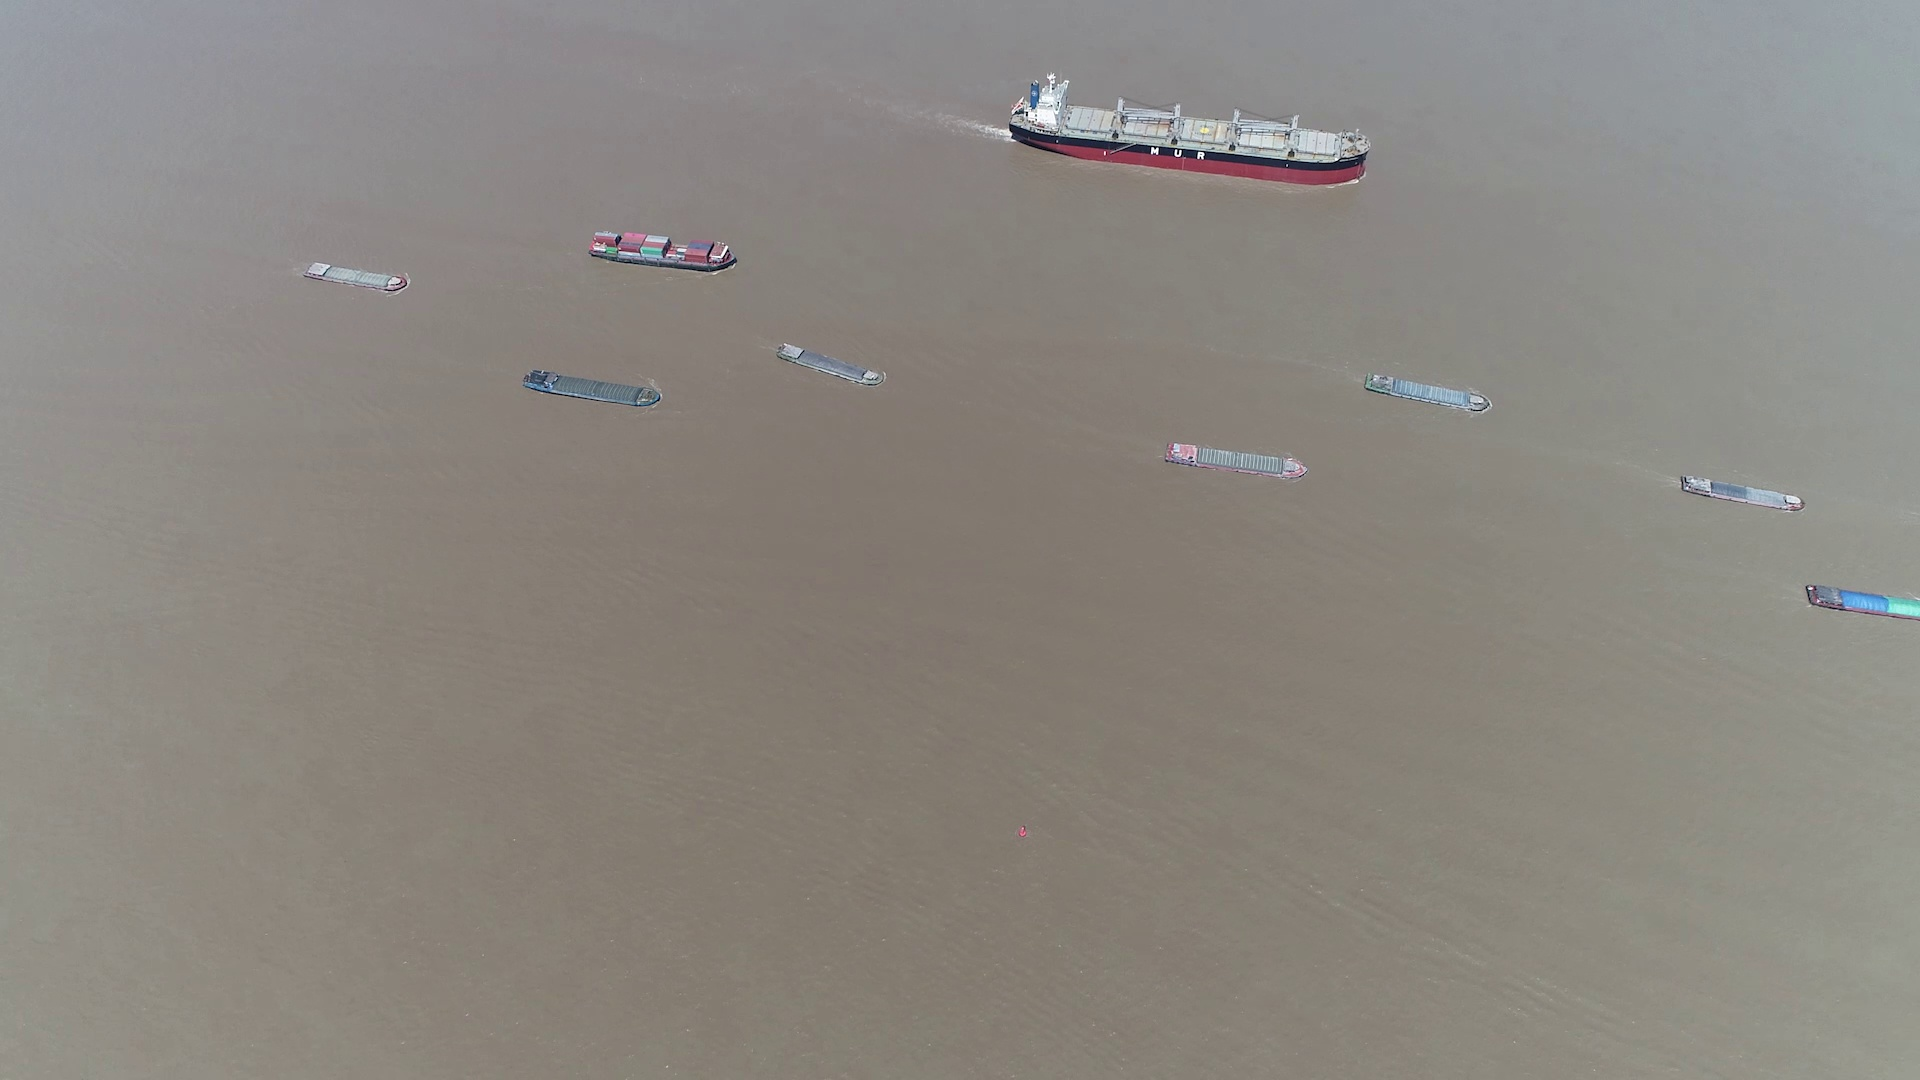ship: (1009, 73, 1367, 182), (588, 229, 738, 272), (1164, 440, 1307, 480), (1365, 372, 1493, 414), (524, 371, 662, 407), (775, 345, 884, 392), (1677, 473, 1807, 512), (1804, 582, 1919, 622), (302, 260, 409, 291)
